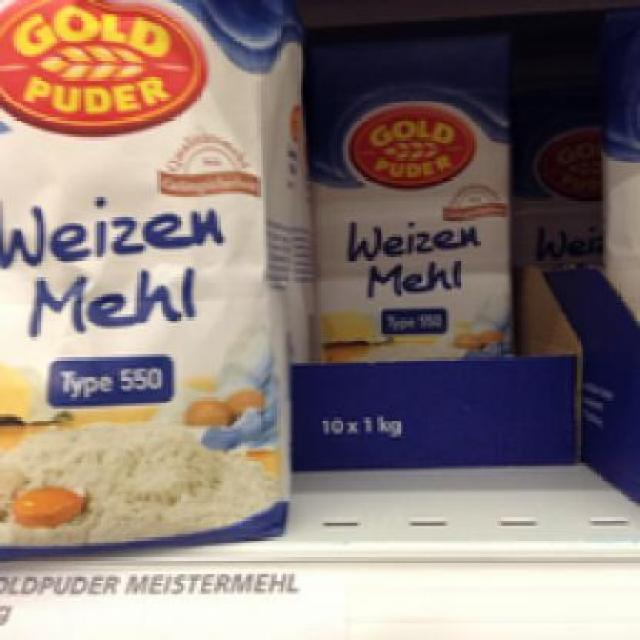Flour: (0, 0, 295, 555), (306, 66, 512, 357)
